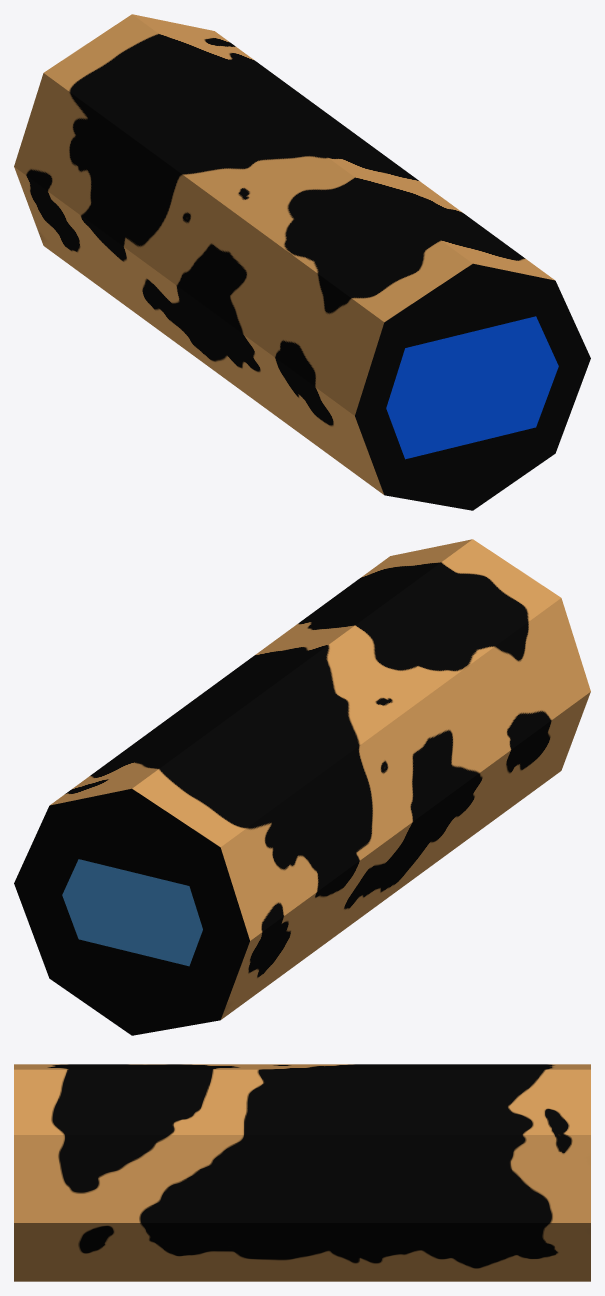
The model's file is HNEscapePod.fbx.
3 views of the same model, one above another, from view 1: azimuth 30°, elevation 25°; view 2: azimuth 150°, elevation 25°; view 3: azimuth 270°, elevation 25° (orthographic). The views are drawn at different scales.
Parts seen in each view (by area): view 1: EscapePod; view 2: EscapePod; view 3: EscapePod.
Part boxes in pixels (left/top/right/bottom): EscapePod: left=14, top=14, right=590, bottom=510; EscapePod: left=14, top=539, right=590, bottom=1035; EscapePod: left=14, top=1064, right=590, bottom=1281.
Bounding box in the file's own units: 400 × 400 × 1000.
